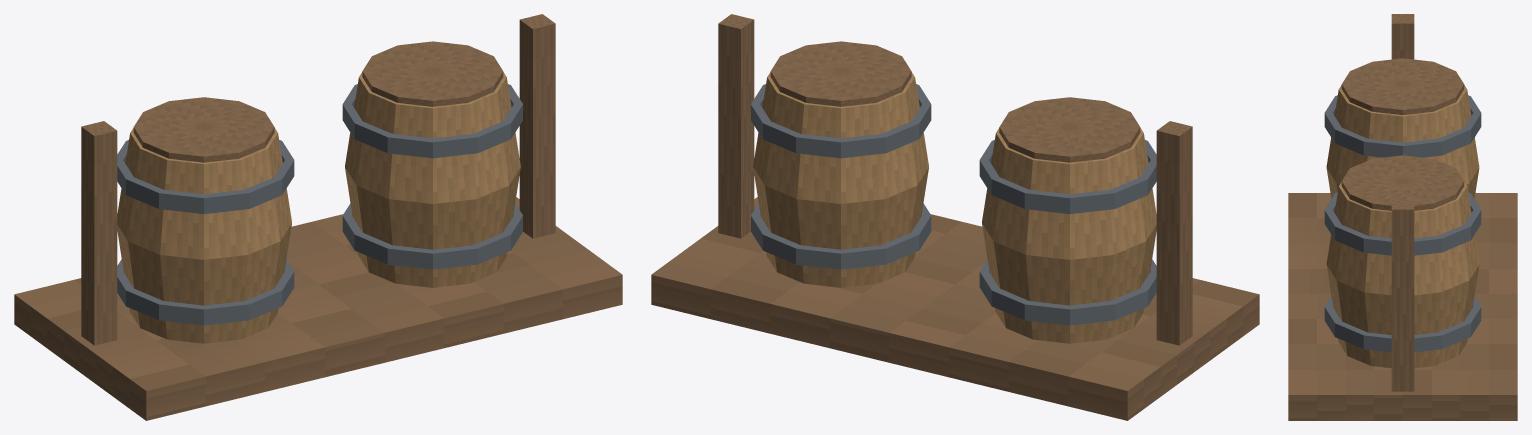
Rendered from dungeon-room-builder-barrel-rack-25d4a351__25876.glb.
3 renders of one model, left to right at view 1: azimuth 30°, elevation 25°; view 2: azimuth 150°, elevation 25°; view 3: azimuth 270°, elevation 25°, orthographic. The views are drawn at different scales.
Visible parts, largest first — view 1: barrel-rack; view 2: barrel-rack; view 3: barrel-rack.
Boxes of the visible parts, left/top/right/bottom form: barrel-rack: left=14, top=14, right=622, bottom=420; barrel-rack: left=651, top=14, right=1259, bottom=420; barrel-rack: left=1288, top=14, right=1517, bottom=420.
Bounding box in the file's own units: 2.5 × 1.2 × 1.2.
3 materials, 2 textured.
